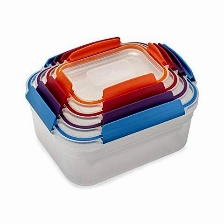plastic_box: (19, 29, 205, 192)
